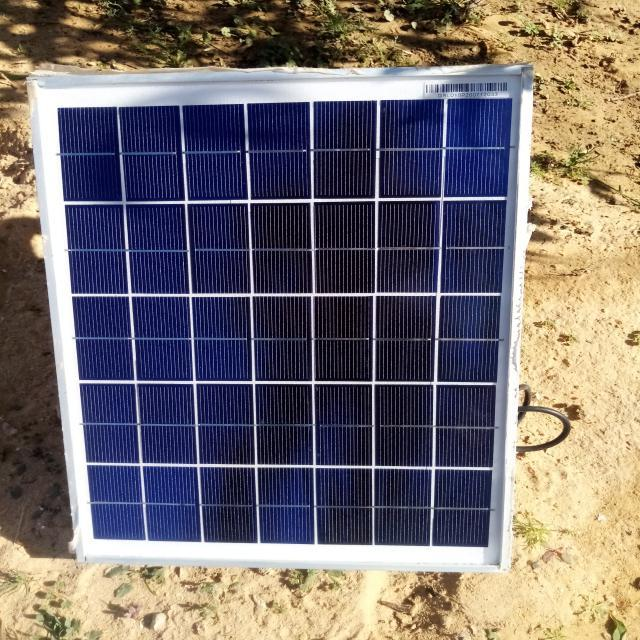no faulty: (31, 68, 533, 568)
